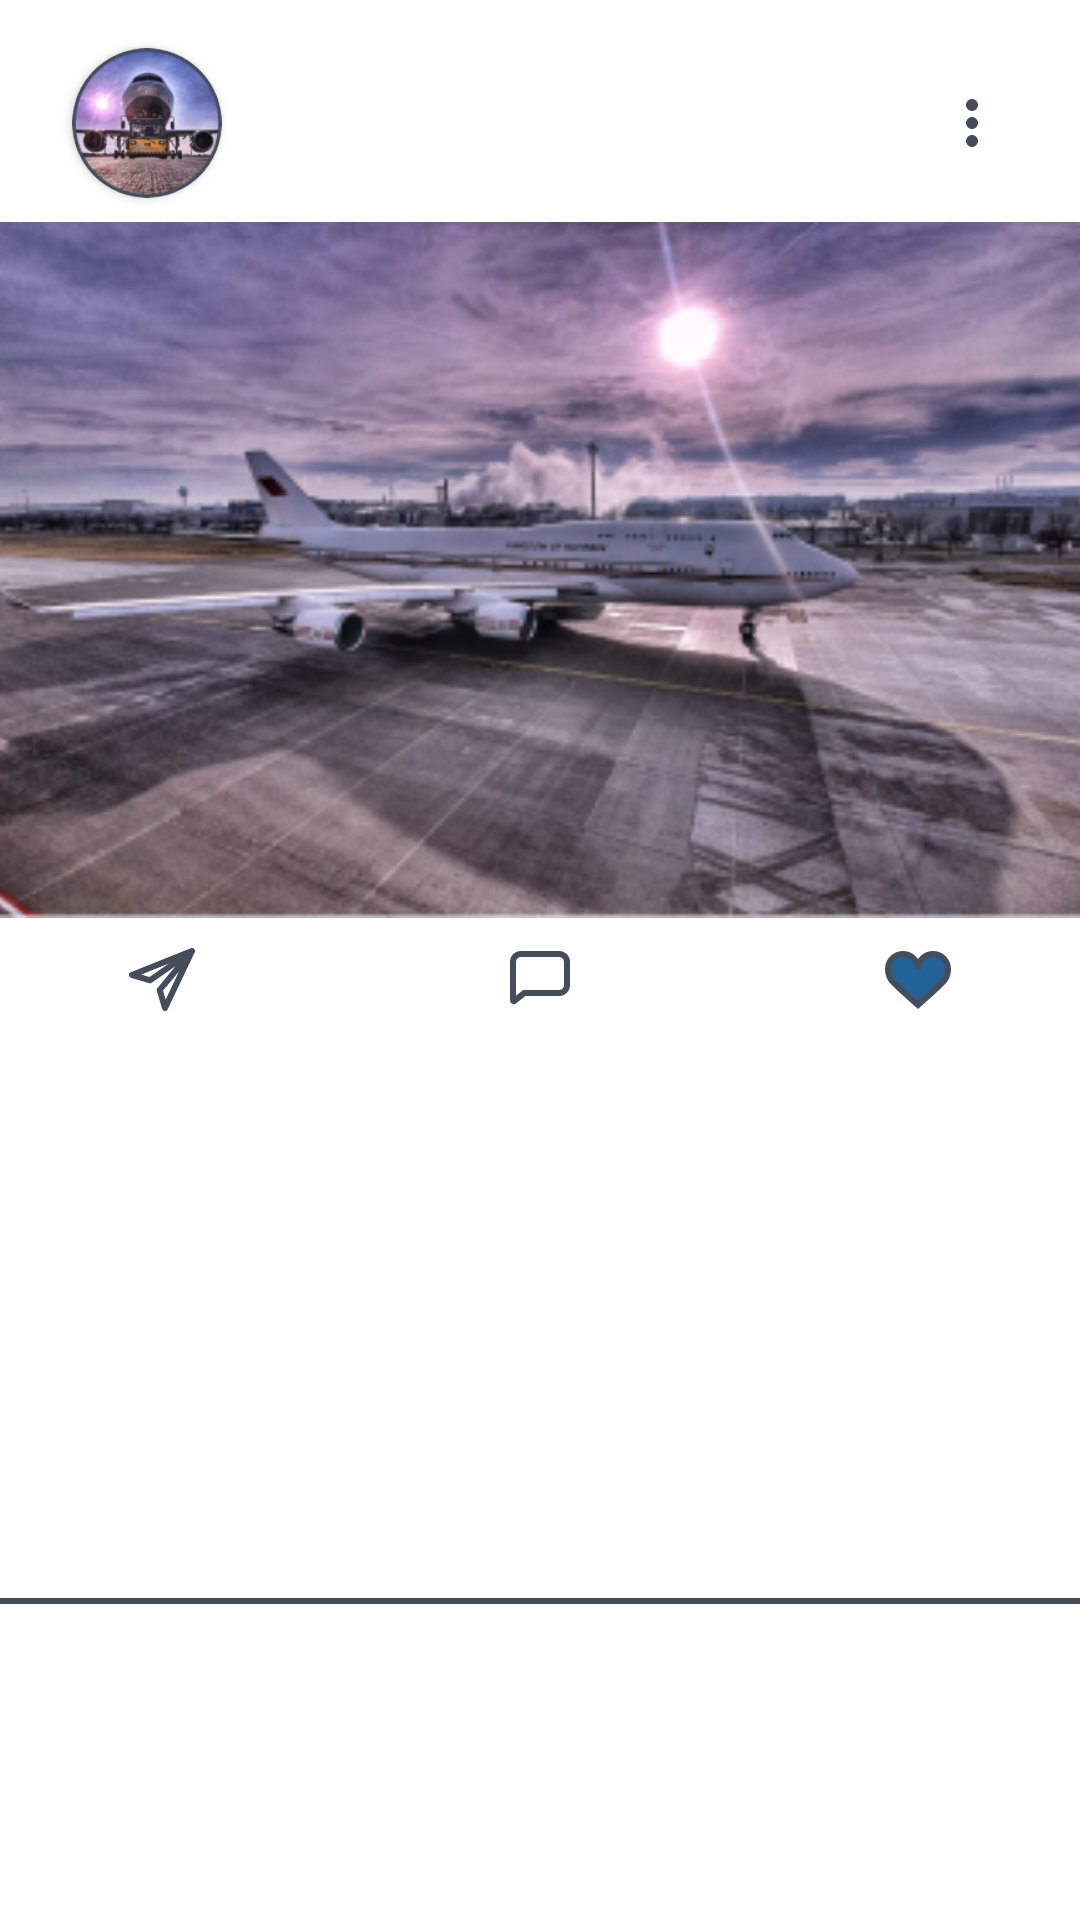

Named icons in this screenshot (1080 x 1920) and their bounding boxes, (x1, y1, x2, y2):
heartfull: (885, 951, 951, 1009)
message left: (510, 951, 570, 1005)
more vert: (966, 99, 978, 147)
send: (129, 948, 195, 1011)
user images: (72, 48, 222, 198)
